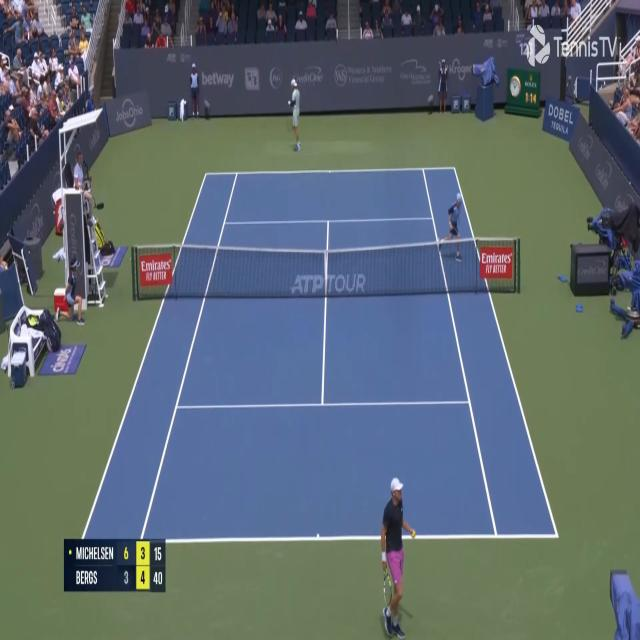tennis-player: (376, 476, 417, 639), (287, 77, 302, 154)
